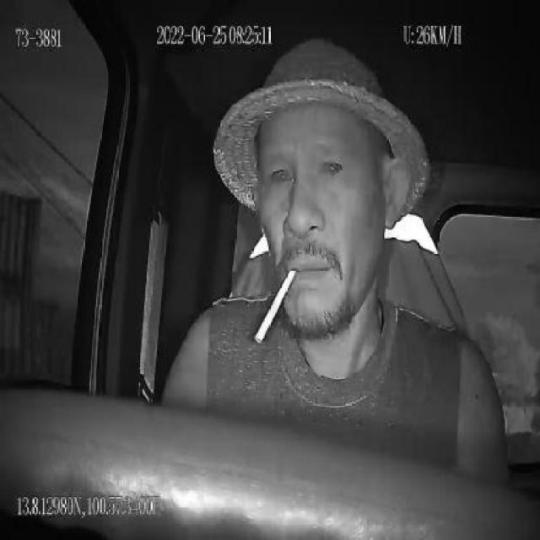smoking: (255, 266, 297, 346)
